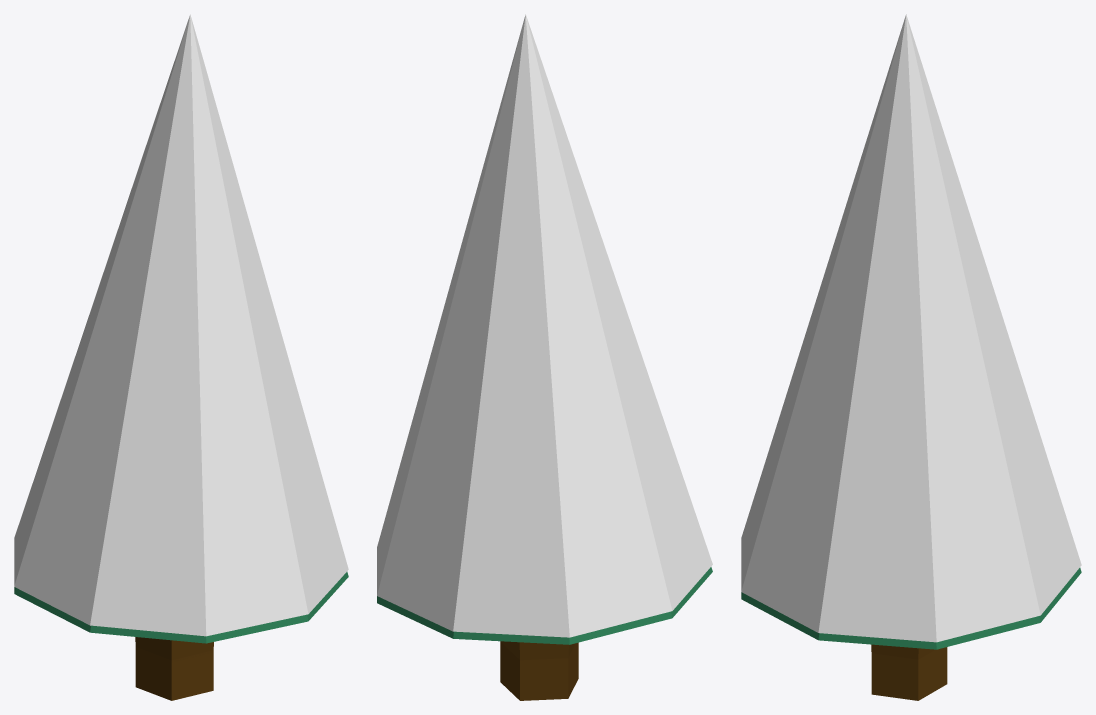
Rendered from snow_tree.dae.
The picture shows the model from 3 angles, left to right: view 1: azimuth 30°, elevation 25°; view 2: azimuth 150°, elevation 25°; view 3: azimuth 270°, elevation 25°; orthographic projection.
Parts seen in each view (by area): view 1: snow_tree; view 2: snow_tree; view 3: snow_tree.
Boxes of the visible parts, <box> form: snow_tree: <box>14,14,348,700</box>; snow_tree: <box>377,14,712,700</box>; snow_tree: <box>741,14,1081,700</box>.
Bounding box in the file's own units: 1.06 × 1.04 × 2.28.
